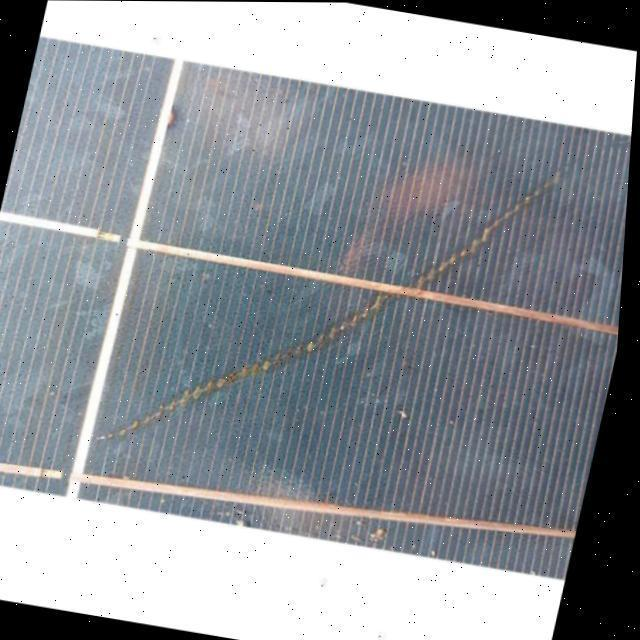Structural Damage: (88, 284, 404, 449), (406, 167, 570, 291)
